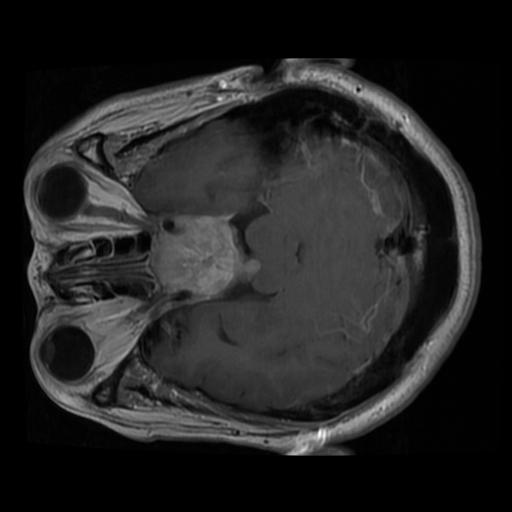pituitary tumour: (151, 218, 241, 297)
